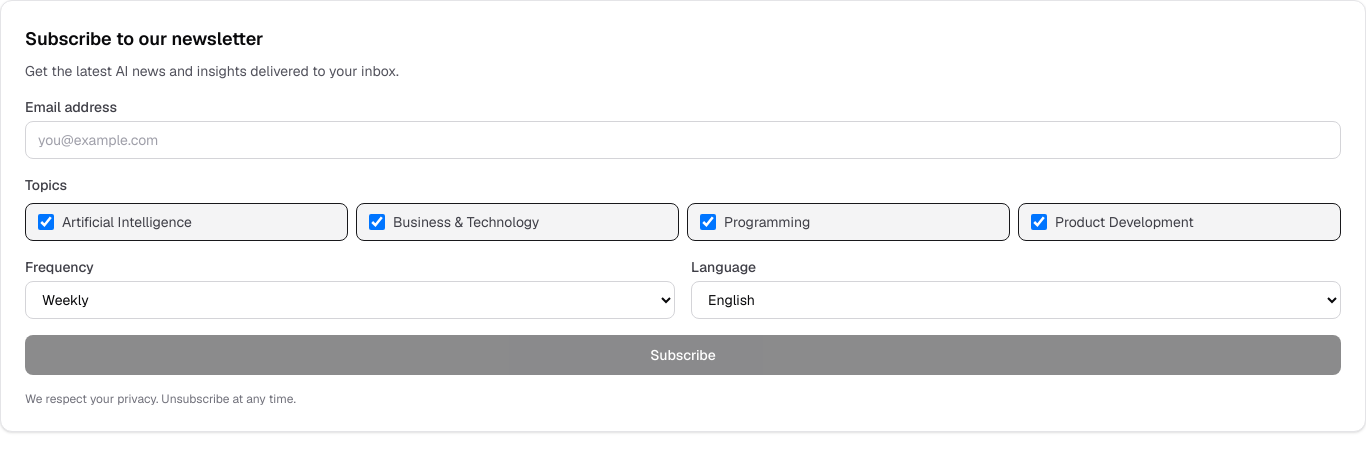
Test: SubscribeForm › disables submit button while submitting
Type "user@example.com" into the field labelled "Email address" at (683, 140), box [25, 121, 1341, 159]
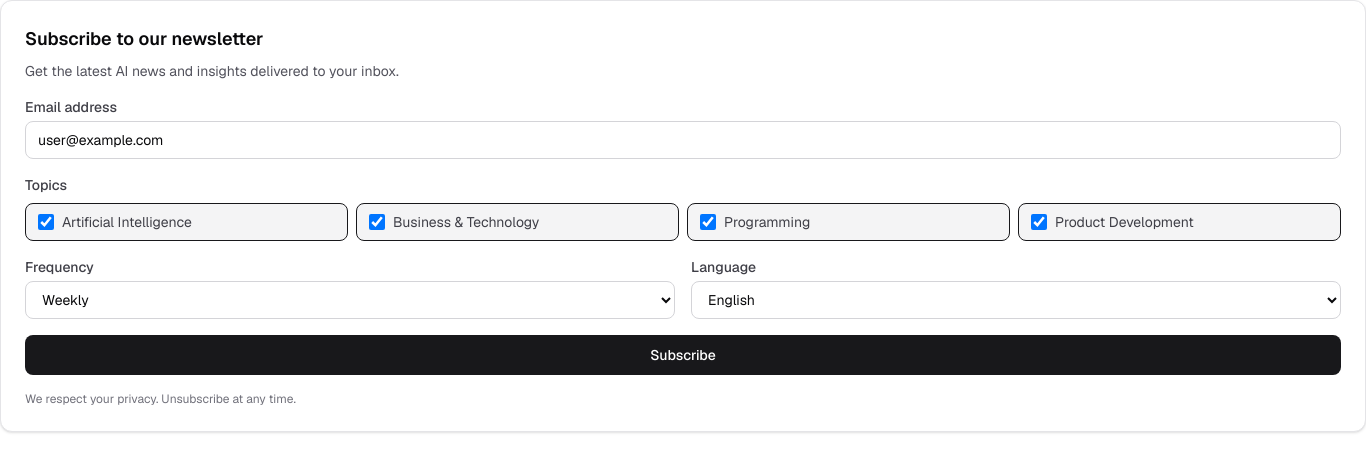
Click the button "Subscribe" at (683, 355), box [25, 335, 1341, 375]
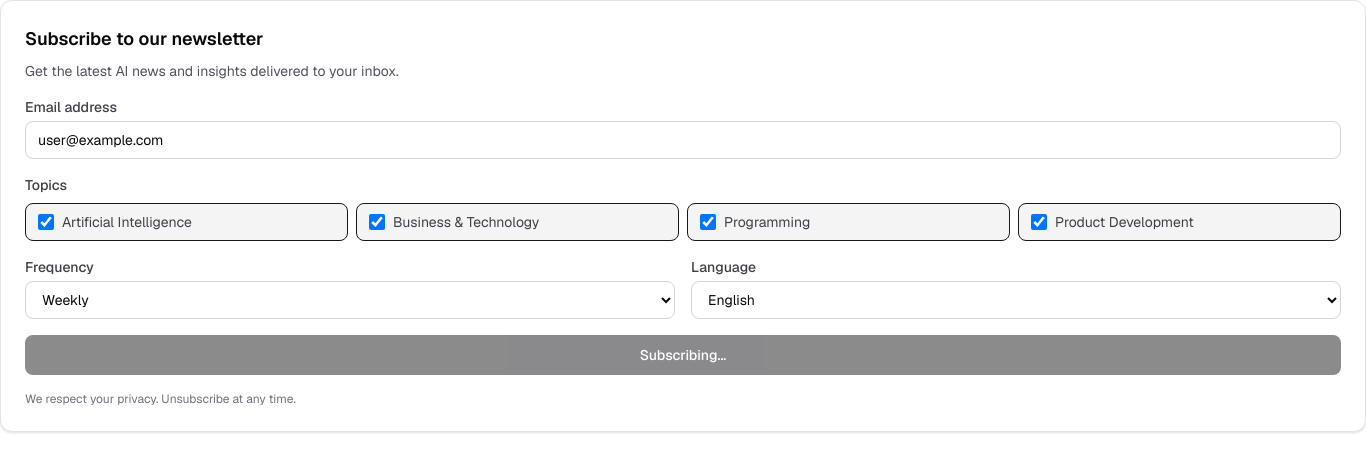
Expected: the button named "subscribe" is disabled, [25, 335, 1341, 375]
